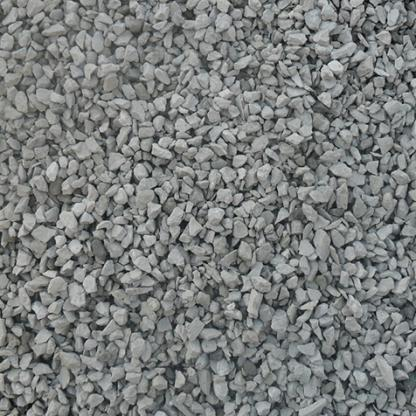Igneous_Diorite: (45, 9, 386, 397)
